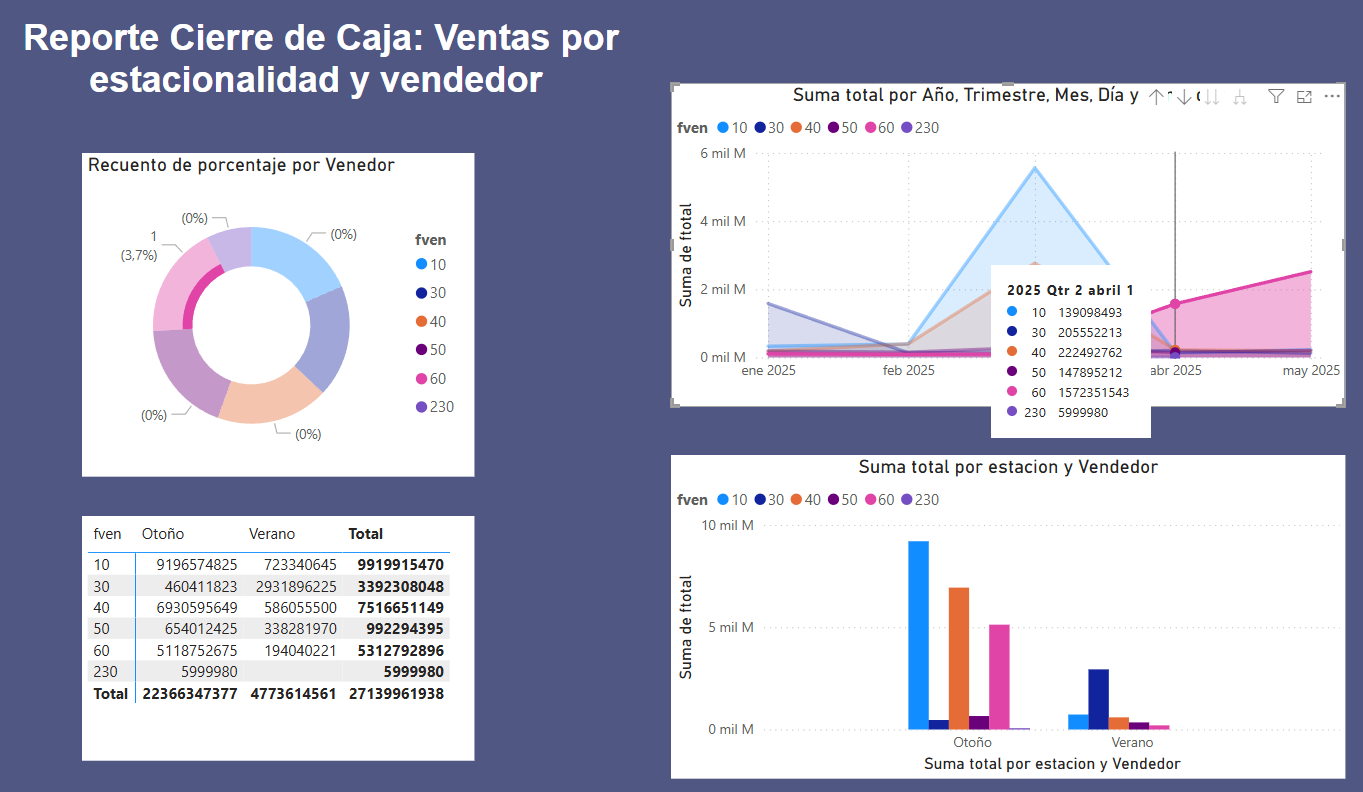

The page's visual inventory and layout, read from the dashboard file:
{"tool":"powerbi","page":{"name":"Página 3","canvas":[1280,720],"ordinal":2},"visuals":[{"type":"lineChart","title":"Suma total por Año, Trimestre, Mes, Día y Vendedor","fields":{"Category":["kpi3_ventas_mensuales_por_vendedor.Fecha.Variación.Jerarquía de fechas.Año","kpi3_ventas_mensuales_por_vendedor.Fecha.Variación.Jerarquía de fechas.Trimestre","kpi3_ventas_mensuales_por_vendedor.Fecha.Variación.Jerarquía de fechas.Mes","kpi3_ventas_mensuales_por_vendedor.Fecha.Variación.Jerarquía de fechas.Día"],"Series":["kpi3_ventas_mensuales_por_vendedor.fven"],"Y":["Sum(kpi3_ventas_mensuales_por_vendedor.ftotal)"]},"box":[630,80,598.3,286.7],"z":0},{"type":"donutChart","title":"Recuento de porcentaje por Venedor","fields":{"Category":["kpi3_ventas_mensuales_por_vendedor.fven"],"Y":["CountNonNull(kpi3_ventas_mensuales_por_vendedor.porcentaje)"]},"box":[108.3,141.7,348.3,286.7],"z":1000},{"type":"clusteredColumnChart","title":"Suma total por estacion y Vendedor","fields":{"Category":["kpi3_ventas_por_estacion_y_vendedor.estacion"],"Y":["Sum(kpi3_ventas_por_estacion_y_vendedor.ftotal)"],"Series":["kpi3_ventas_por_estacion_y_vendedor.fven"]},"box":[630,410,598.3,286.7],"z":2000},{"type":"pivotTable","fields":{"Rows":["kpi3_ventas_por_estacion_y_vendedor.fven"],"Columns":["kpi3_ventas_por_estacion_y_vendedor.estacion"],"Values":["Sum(kpi3_ventas_por_estacion_y_vendedor.ftotal)"]},"box":[108.3,463.3,348.3,216.7],"z":3000},{"type":"textbox","box":[0,16.7,640,125],"z":3001}]}

Visuals, with their boxes in screenshot pixels (x1, y1, x2, y2):
"Suma total por Año, Trimestre, Mes, Día y Vendedor" lineChart: bbox=(669, 80, 1344, 403)
"Recuento de porcentaje por Venedor" donutChart: bbox=(80, 149, 473, 473)
"Suma total por estacion y Vendedor" clusteredColumnChart: bbox=(669, 452, 1344, 776)
pivotTable - kpi3_ventas_por_estacion_y_vendedor.fven x kpi3_ventas_por_estacion_y_vendedor.estacion: bbox=(80, 512, 473, 757)
textbox: bbox=(0, 8, 680, 149)
